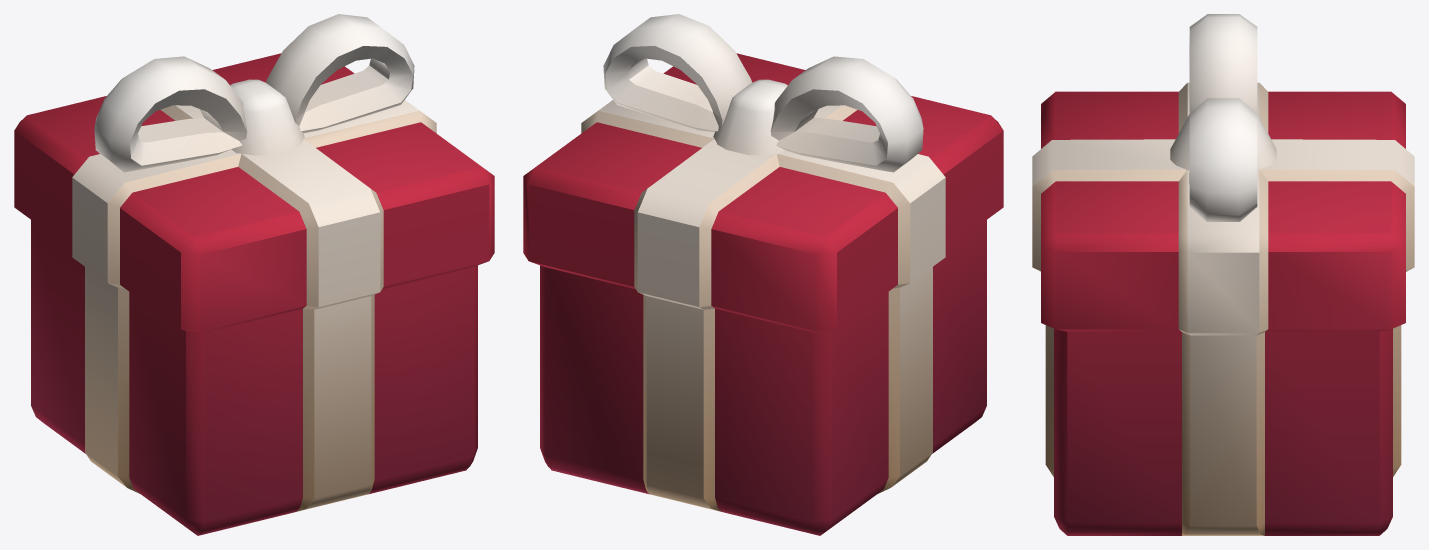
File: present_A_red.glb
3 renders of one model, left to right at view 1: azimuth 30°, elevation 25°; view 2: azimuth 150°, elevation 25°; view 3: azimuth 270°, elevation 25°, orthographic.
Parts seen in each view (by area): view 1: present_A_red; view 2: present_A_red; view 3: present_A_red.
Part boxes in pixels (x1,y1,x2,y2): present_A_red: (14,14,494,535); present_A_red: (523,14,1003,535); present_A_red: (1032,14,1414,535).
Size of the model in its own units: 0.5638 by 0.6617 by 0.5638.
Materials: 1 (1 with a texture image).
